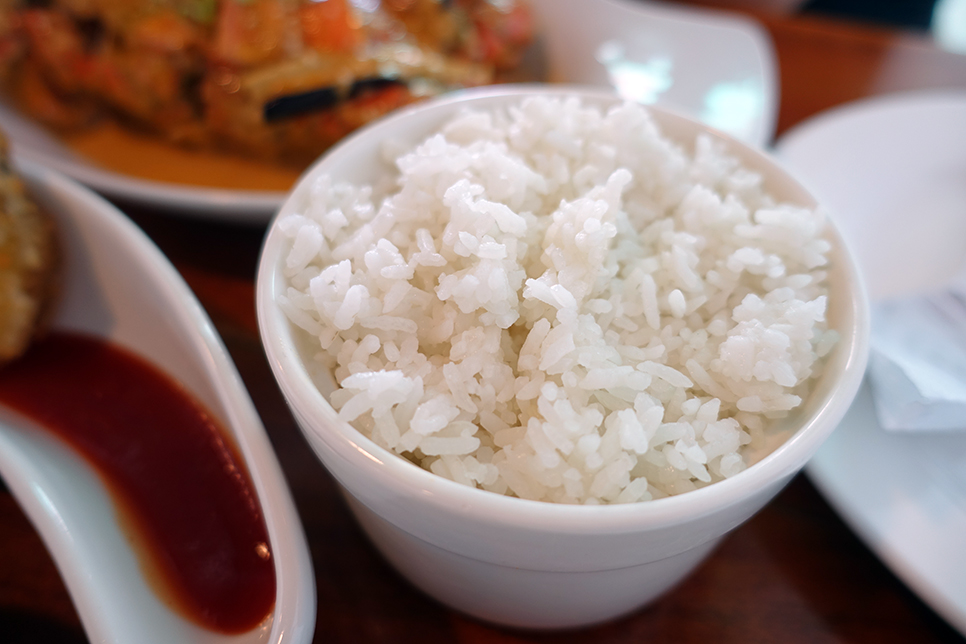plain rice: (333, 133, 760, 441)
